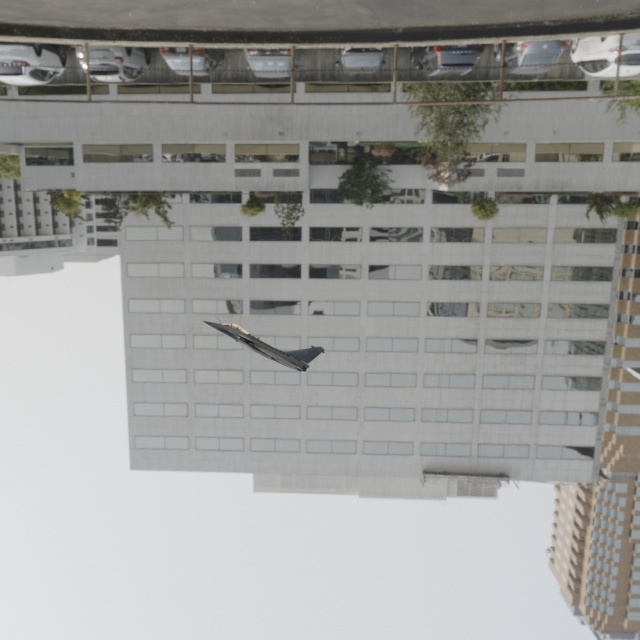dassault_rafale: (195, 293, 329, 382)
